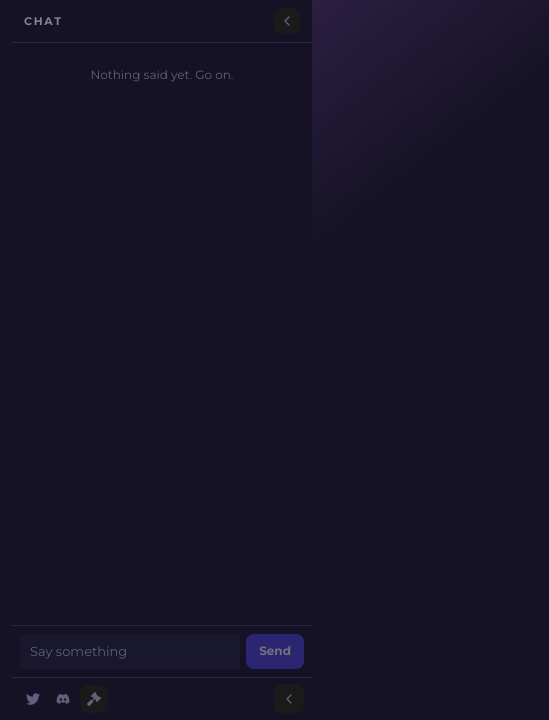
the site chat panel › says why a link was refused rather than failing silently
In the field with placeholder "Say something": (130, 651) left=20, top=634, right=240, bottom=669, type "http://spam.com"
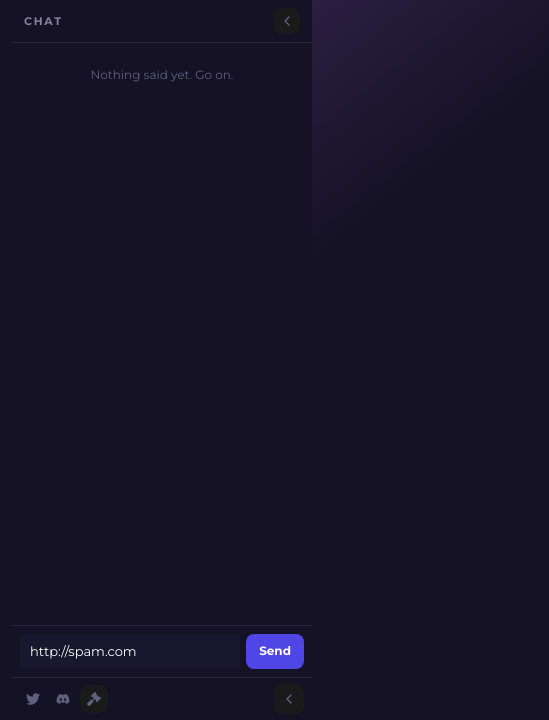
Submit the form with placeholder "Say something", box left=12, top=624, right=312, bottom=677
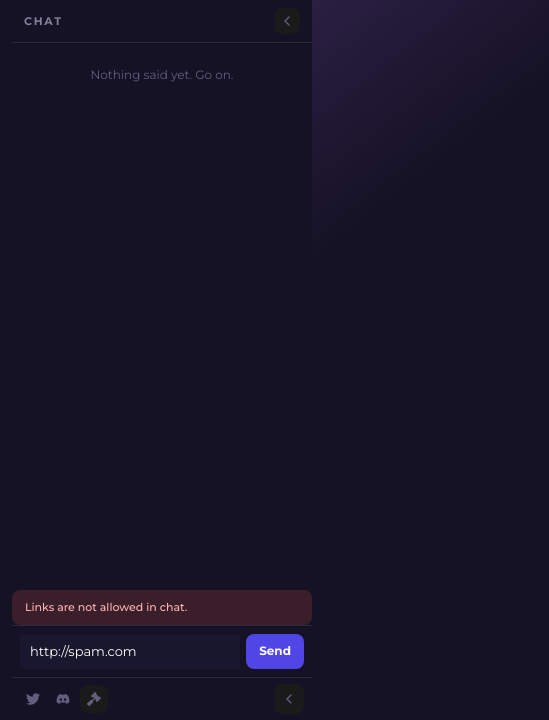
expect the button "Links are not allowed in chat." is shown: met, box left=12, top=590, right=312, bottom=624
